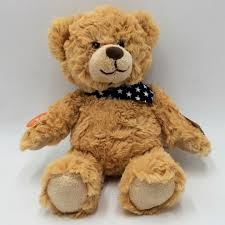teddy: (6, 4, 223, 225)
